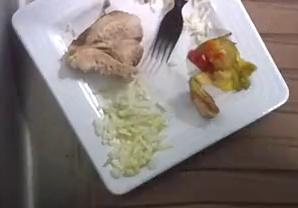lettuce: (94, 78, 167, 177)
pork: (65, 10, 142, 77)
vegetables: (186, 32, 255, 117)
